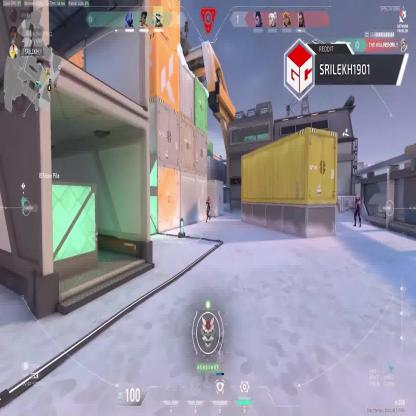enemy: (353, 194, 361, 228), (206, 196, 210, 223)
enemy_head: (355, 194, 360, 202), (207, 196, 210, 202)
